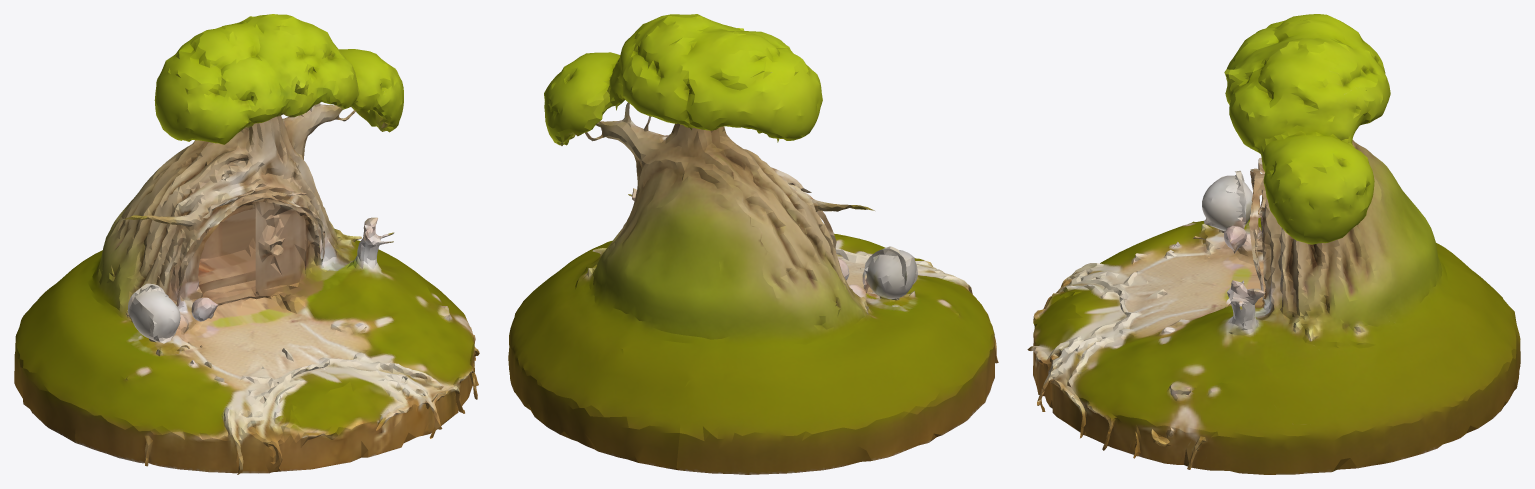
The picture shows the model from 3 angles, left to right: view 1: azimuth 30°, elevation 25°; view 2: azimuth 150°, elevation 25°; view 3: azimuth 270°, elevation 25°; orthographic projection. The views are drawn at different scales.
Parts seen in each view (by area): view 1: 025; view 2: 025; view 3: 025.
Boxes of the visible parts, x1,y1,x2,y2 form: 025: (14, 14, 479, 474); 025: (508, 14, 998, 474); 025: (1027, 14, 1520, 474).
Bounding box in the file's own units: 1.88 × 1.5 × 1.89.
Materials: 1 (1 with a texture image).
